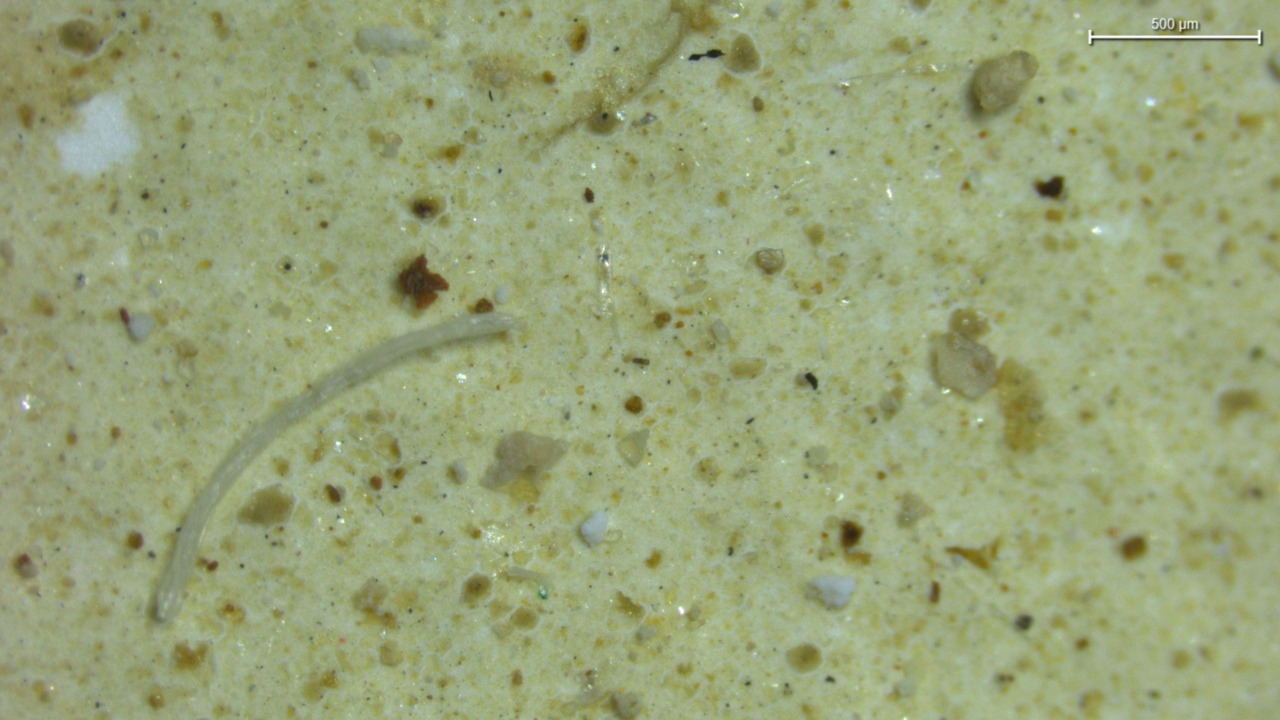microplastic_fragment: (481, 431, 566, 487), (932, 332, 996, 398), (971, 51, 1038, 113), (355, 26, 428, 55), (811, 575, 856, 609), (616, 429, 650, 466), (578, 511, 608, 547), (121, 309, 154, 341), (753, 248, 785, 274), (711, 320, 730, 344)
